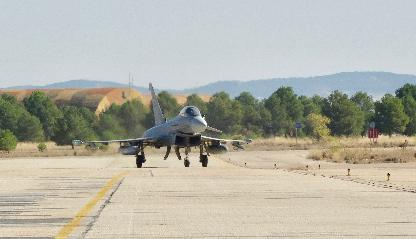E2: (72, 82, 252, 167)
